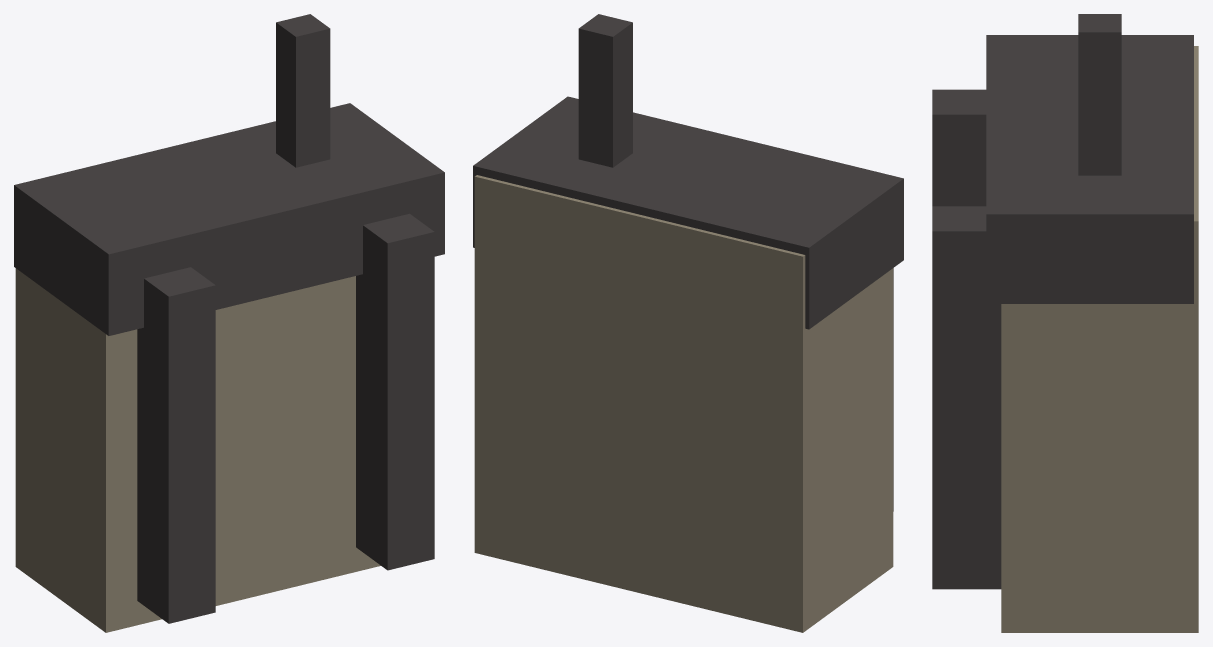
The model's file is back-toolpack.glb.
3 renders of one model, left to right at view 1: azimuth 30°, elevation 25°; view 2: azimuth 150°, elevation 25°; view 3: azimuth 270°, elevation 25°, orthographic. The views are drawn at different scales.
Visible parts, largest first — view 1: pack_body, pack_flap, pack_strap_1, pack_strap_-1, pack_wrench; view 2: pack_body, pack_flap, pack_wrench; view 3: pack_body, pack_flap, pack_strap_1, pack_wrench, pack_strap_-1.
Part boxes in pixels (<box>): pack_body: <box>15,268,380,632</box>; pack_flap: <box>14,103,444,335</box>; pack_strap_1: <box>356,213,434,570</box>; pack_strap_-1: <box>137,267,215,623</box>; pack_wrench: <box>276,14,330,167</box>; pack_body: <box>474,175,893,632</box>; pack_flap: <box>473,96,903,329</box>; pack_wrench: <box>578,14,632,167</box>; pack_body: <box>1001,46,1198,632</box>; pack_flap: <box>986,35,1193,303</box>; pack_strap_1: <box>932,206,1001,589</box>; pack_wrench: <box>1078,14,1121,175</box>; pack_strap_-1: <box>932,89,986,206</box>.
Bounding box in the file's own units: 0.215 × 0.315 × 0.135.
